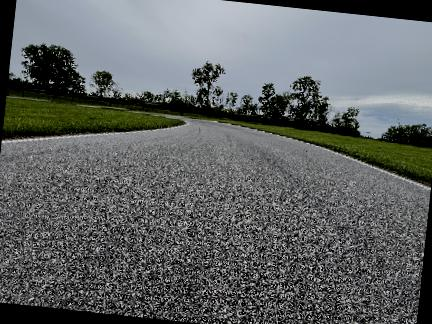Grass: (200, 116, 431, 185), (218, 120, 431, 185), (2, 98, 184, 138)
Lane: (0, 119, 430, 323)
